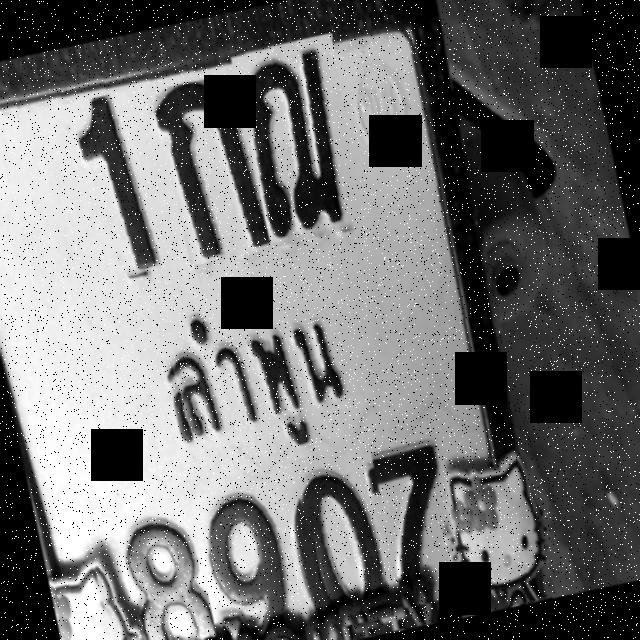letters: (230, 32, 373, 248), (138, 72, 272, 269), (39, 90, 162, 290), (187, 478, 312, 640), (367, 418, 472, 608), (83, 500, 225, 640), (289, 449, 394, 630)
license-plate: (0, 0, 542, 640)
province: (156, 268, 384, 482)
